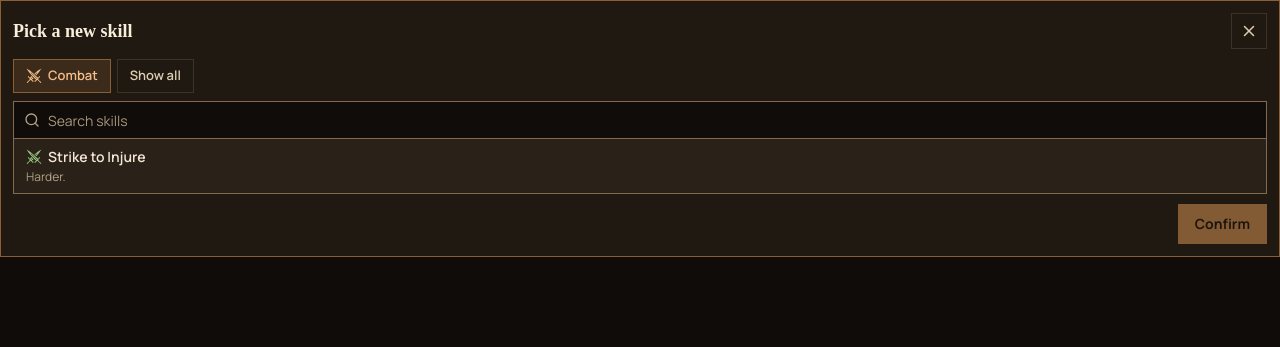
Scenario: A pick left for later › offers only the campaign's skills, his groups first and the rest behind Show all
The width and height of the screenshot is (1280, 347).
Expected: the option "Strike to Injure Harder." is shown, top-left (14, 139), bottom-right (1266, 193)
Expected: the option "Sprint" is not shown
Click the button "Show all".
click(155, 76)  # box top-left (117, 59), bottom-right (194, 93)
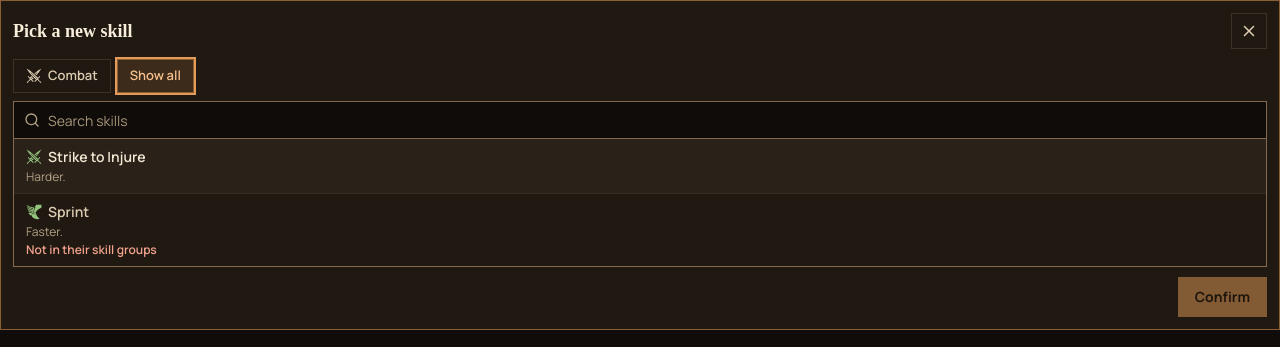
Result: the option "Sprint Faster. Not in their skill groups" is shown at top-left (14, 193), bottom-right (1266, 266)
